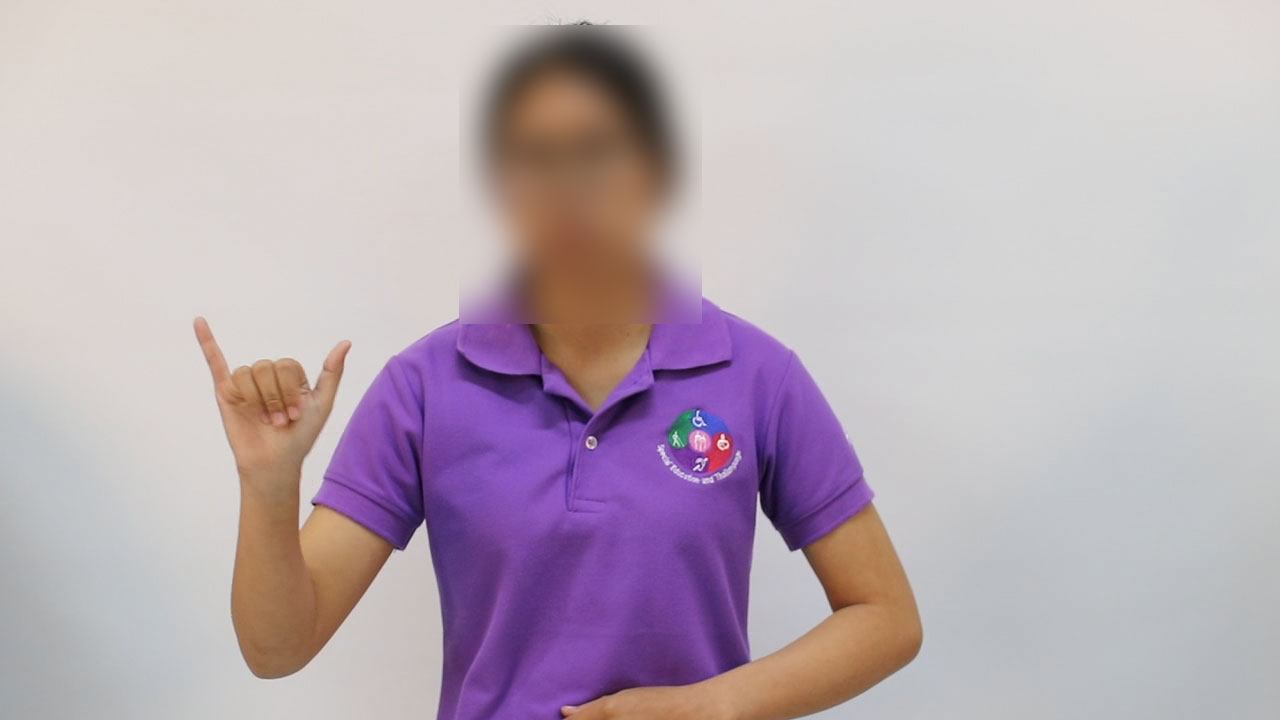yor: (176, 305, 354, 485)
